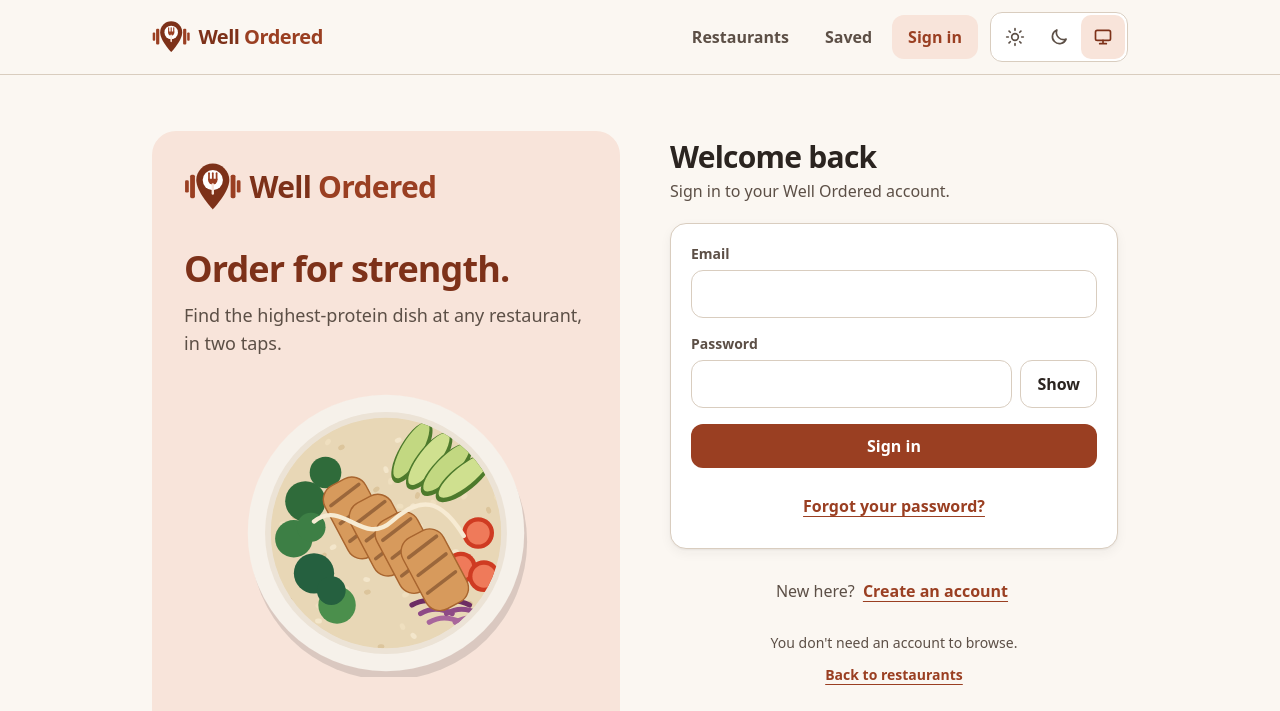
login screen › signs in, then goes home and shows Account in the nav
Type " pat@example.com " into the field labelled "Email".
click(894, 294); type(" pat@example.com ")  # box [691,270,1097,318]
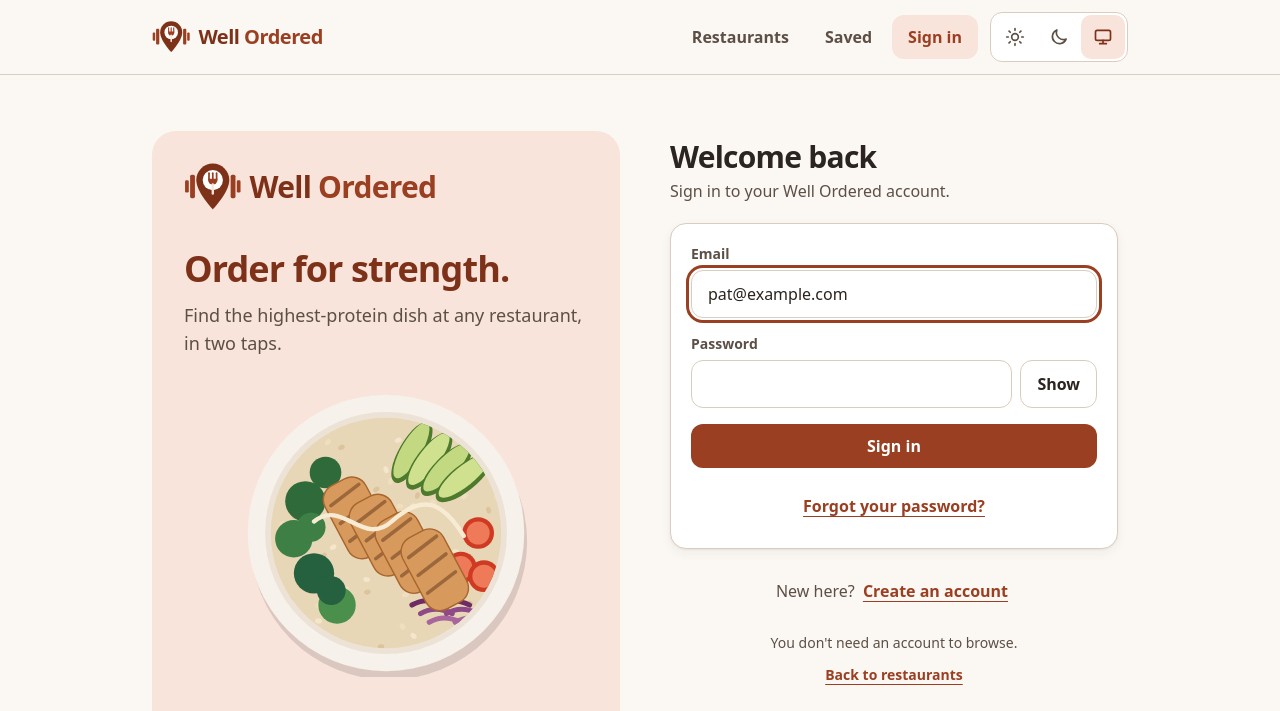
Type "correct-horse" into the password field labelled "Password".
click(852, 384); type("correct-horse")  # box [691,360,1012,408]
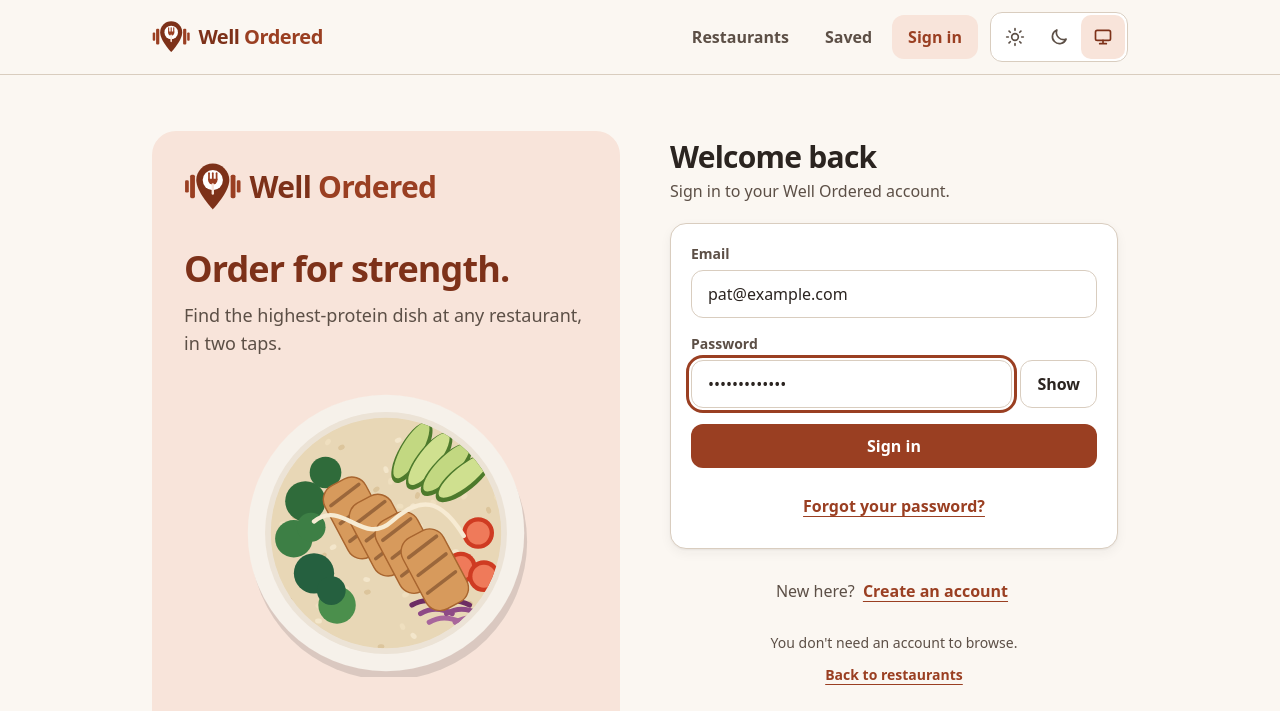
Click the button "Sign in".
click(894, 446)  # box [691,424,1097,468]
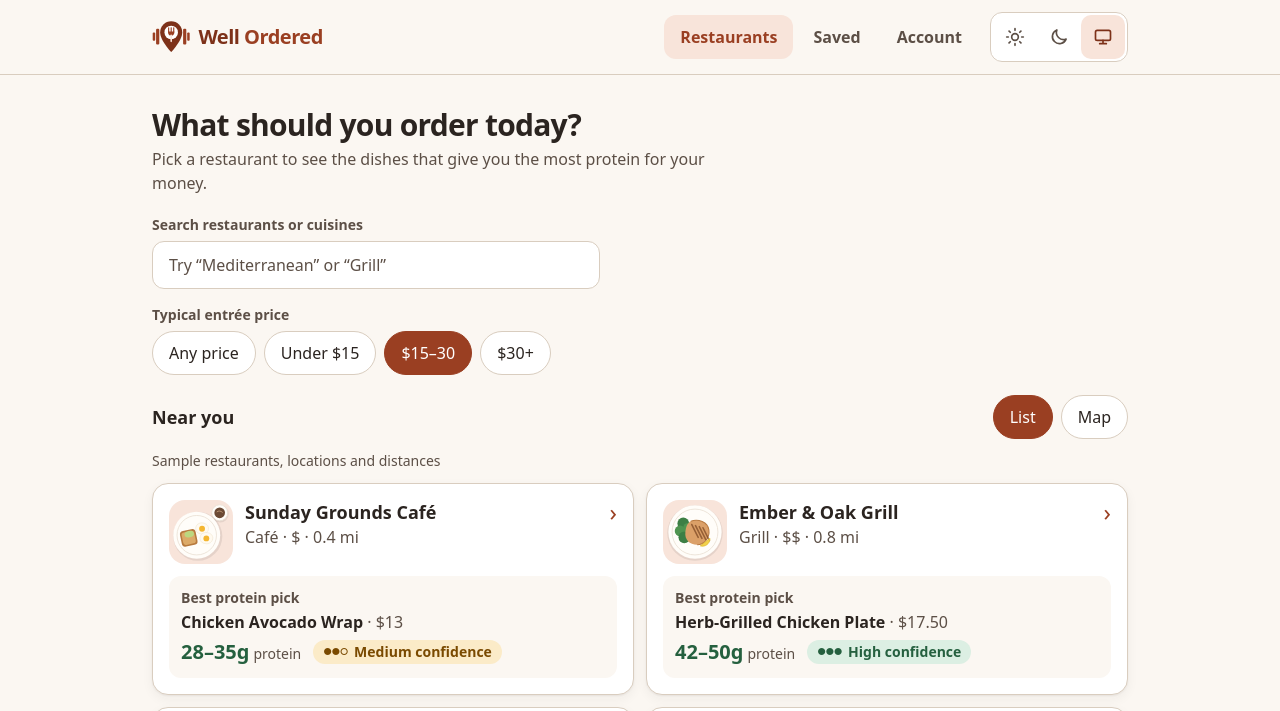
Result: the heading "What should you order today?" is shown at [152,104,581,145]
Result: the link "Account" is shown at [897,26,962,48]
